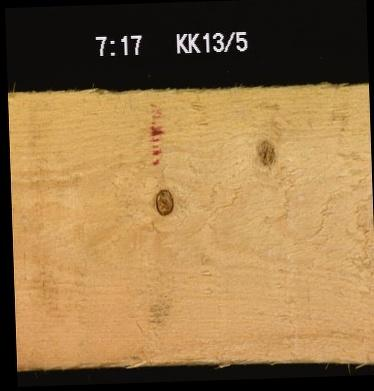dry_knot: (251, 135, 276, 164), (150, 186, 174, 215)
wave: (59, 347, 146, 370)
